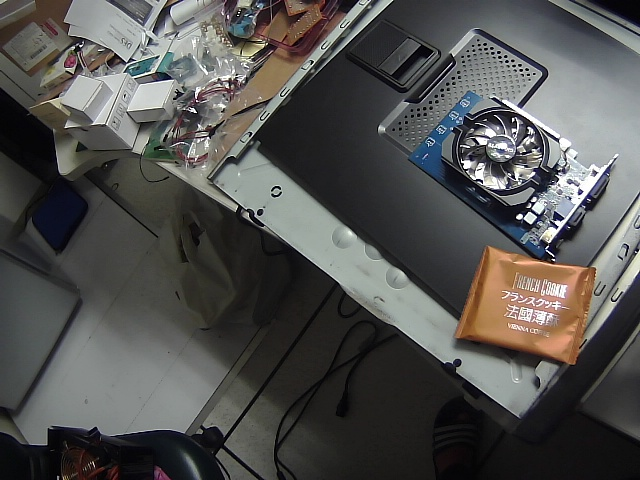frenchcookie: (441, 235, 614, 377)
